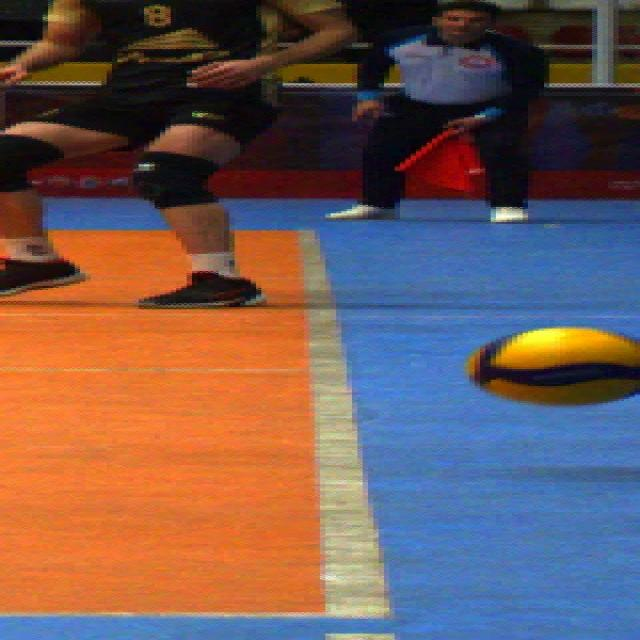Volleyball: (475, 327, 640, 408)
